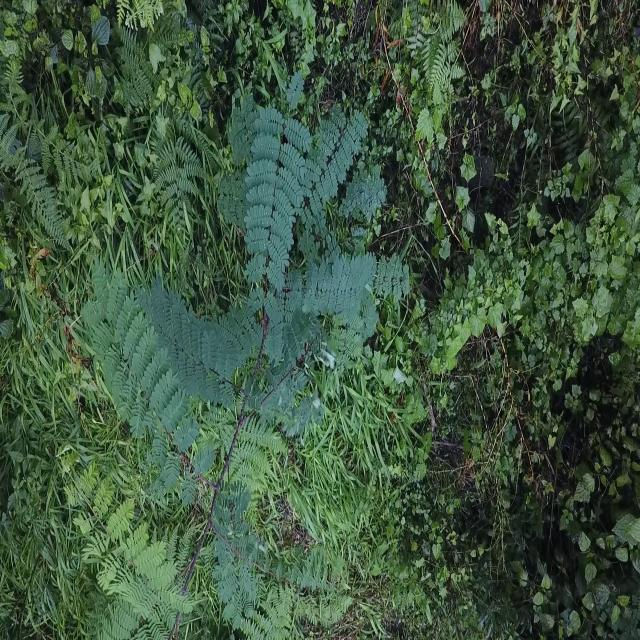Mysore-Thorn-Weed: (58, 50, 401, 640)
